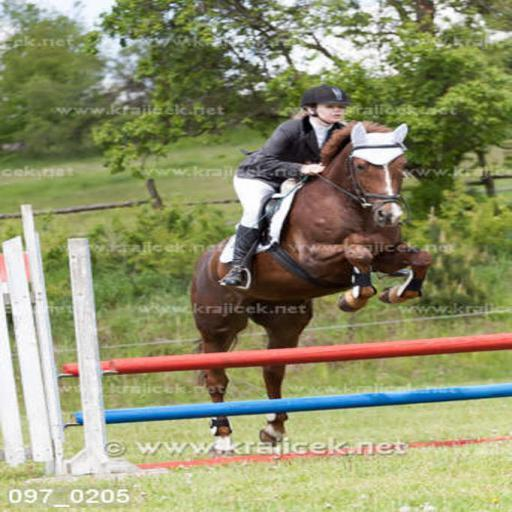horse: (194, 120, 436, 452)
